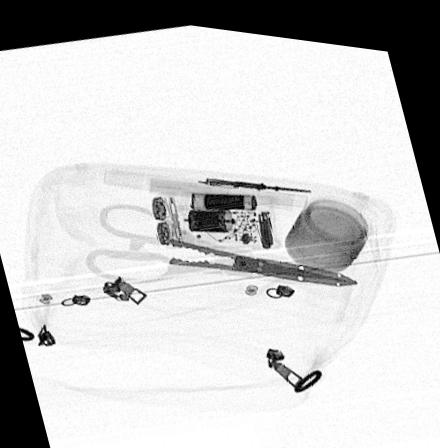Scissors: (83, 199, 359, 280), (194, 172, 310, 184)
